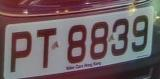3: (110, 14, 133, 61)
8: (65, 21, 89, 69), (88, 16, 111, 66)
9: (131, 12, 151, 56)
P: (7, 26, 35, 78)
T: (33, 23, 58, 75)
